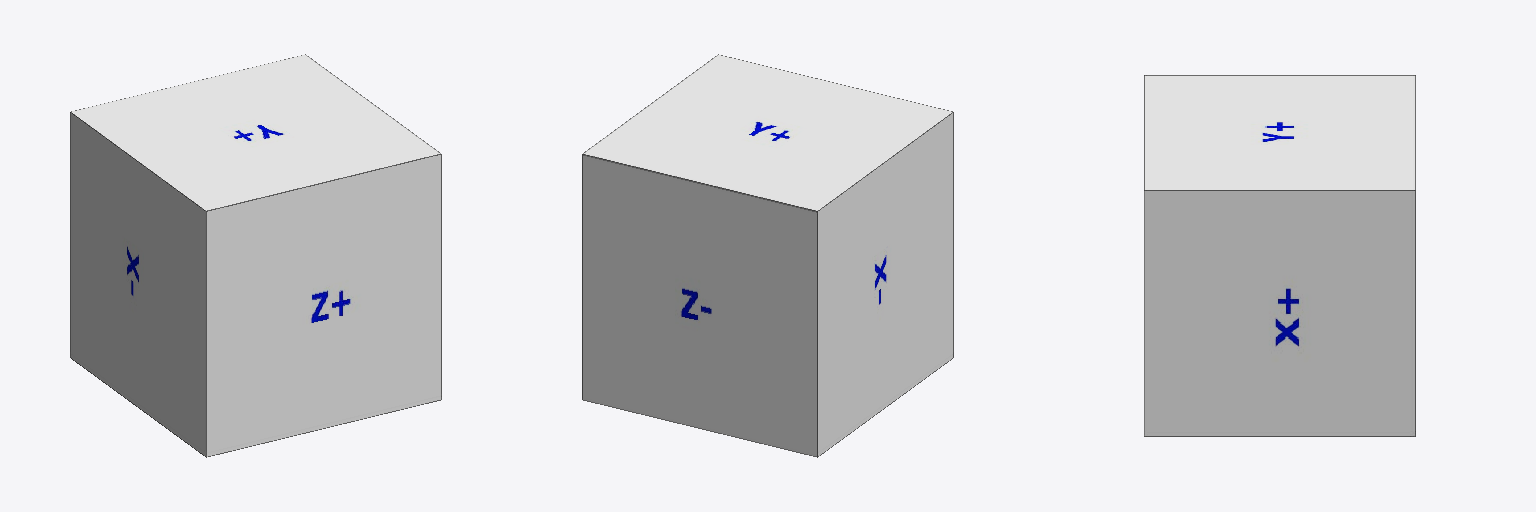
3 renders of one model, left to right at view 1: azimuth 30°, elevation 25°; view 2: azimuth 150°, elevation 25°; view 3: azimuth 270°, elevation 25°, orthographic.
Visible parts, largest first — view 1: box; view 2: box; view 3: box.
Boxes of the visible parts, box(x1,y1,x2,y2) form: box: box(70, 54, 441, 457); box: box(582, 54, 953, 457); box: box(1144, 75, 1415, 436).
Size of the model in its own units: 1 by 1 by 1.
Materials: 1 (1 with a texture image).